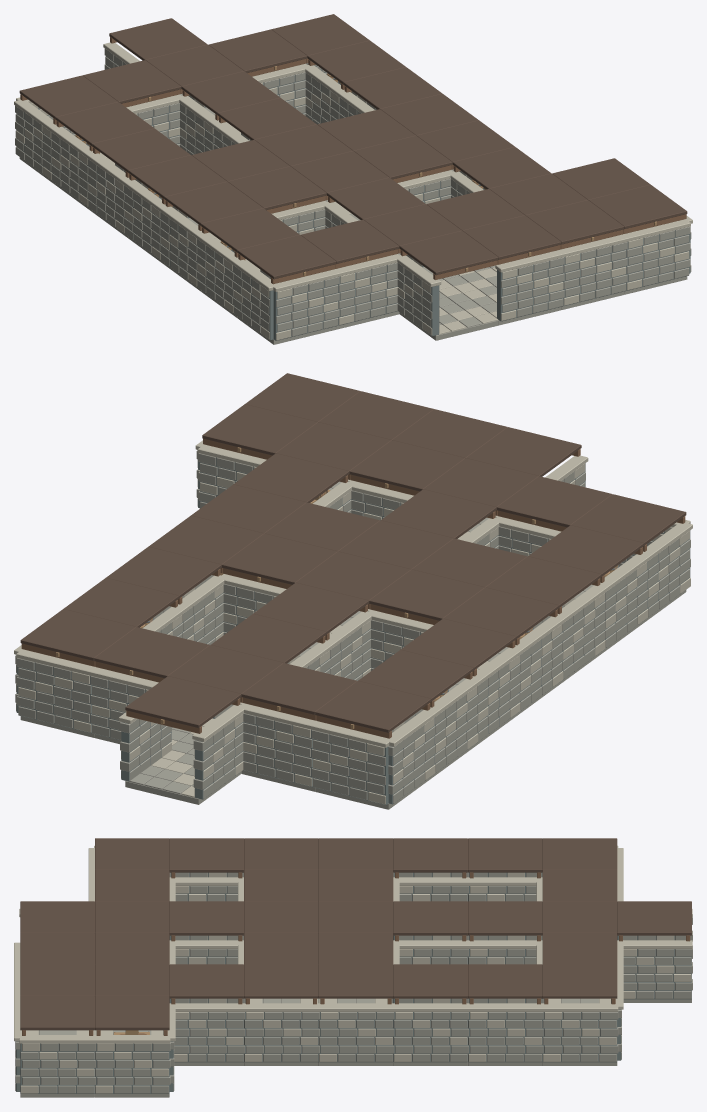
Rendered from tv_20_01_cellar_vaults.glb.
The picture shows the model from 3 angles, top to bottom: view 1: azimuth 30°, elevation 25°; view 2: azimuth 150°, elevation 25°; view 3: azimuth 270°, elevation 25°; orthographic projection. The views are drawn at different scales.
Visible parts, largest first — view 1: wall_0062, wall_0036, wall_0068, wall_0080, wall_0048, ceiling_0093, ceiling_0104, ceiling_0100, ceiling_0113, ceiling_0118, ceiling_0126, ceiling_0117 (+50 smaller); view 2: wall_0045, wall_0078, wall_0051, ceiling_0099, ceiling_0112, ceiling_0125, ceiling_0103, ceiling_0114, ceiling_0117, ceiling_0102, ceiling_0127, ceiling_0100 (+49 smaller); view 3: wall_0077, wall_0072, wall_0071, wall_0073, wall_0075, wall_0079, wall_0081, wall_0069, wall_0060, ceiling_0125, ceiling_0122, ceiling_0094 (+46 smaller).
Part boxes in pixels (x1,y1,x2,y2): wall_0062: (495, 250, 564, 321); wall_0036: (273, 269, 339, 340); wall_0068: (560, 234, 627, 305); wall_0080: (622, 220, 690, 290); wall_0048: (335, 254, 401, 325); ceiling_0093: (237, 235, 336, 284); ceiling_0104: (399, 231, 498, 279); ceiling_0100: (301, 219, 399, 268); ceiling_0113: (463, 215, 561, 264); ceiling_0118: (525, 200, 624, 249); ceiling_0126: (588, 185, 687, 233); ceiling_0117: (208, 29, 307, 76); wall_0045: (311, 721, 391, 804); wall_0078: (16, 649, 96, 733); wall_0051: (238, 703, 317, 787); ceiling_0099: (315, 681, 430, 738); ceiling_0112: (125, 676, 241, 733); ceiling_0125: (20, 609, 136, 666); ceiling_0103: (241, 663, 356, 720); ceiling_0114: (349, 440, 464, 495); ceiling_0117: (94, 627, 209, 682); ceiling_0102: (369, 569, 484, 624); ceiling_0127: (202, 404, 317, 459); ceiling_0100: (497, 476, 612, 531); wall_0077: (542, 1003, 618, 1062); wall_0072: (318, 1003, 394, 1062); wall_0071: (244, 1003, 319, 1062); wall_0073: (393, 1003, 468, 1062); wall_0075: (468, 1003, 543, 1062); wall_0079: (19, 1035, 95, 1093); wall_0081: (94, 1035, 170, 1093); wall_0069: (169, 1003, 245, 1062); wall_0060: (617, 940, 692, 999); ceiling_0125: (542, 964, 617, 1004); ceiling_0122: (318, 964, 393, 1004); ceiling_0094: (169, 838, 243, 878).
Bounding box in the file's own units: 24.67 × 4.16 × 36.39.
